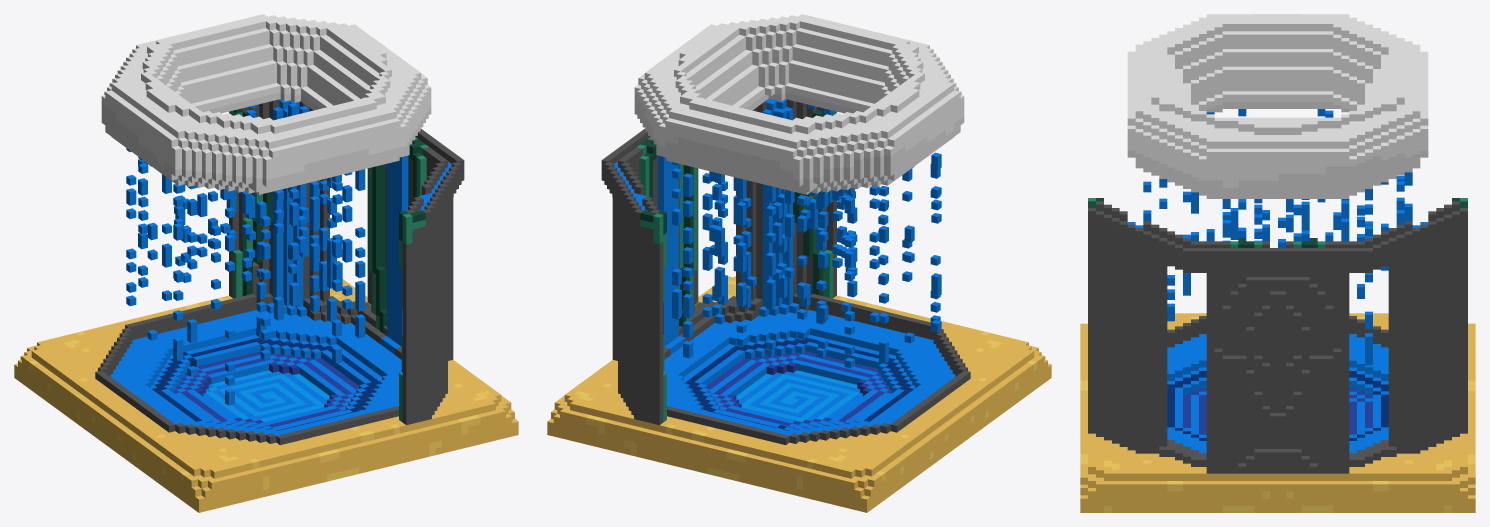
The model's file is portal skin 1.obj.
3 renders of one model, left to right at view 1: azimuth 30°, elevation 25°; view 2: azimuth 150°, elevation 25°; view 3: azimuth 270°, elevation 25°, orthographic. The views are drawn at different scales.
Bounding box in the file's own units: 5 × 5 × 5.
1 material, 1 textured.
